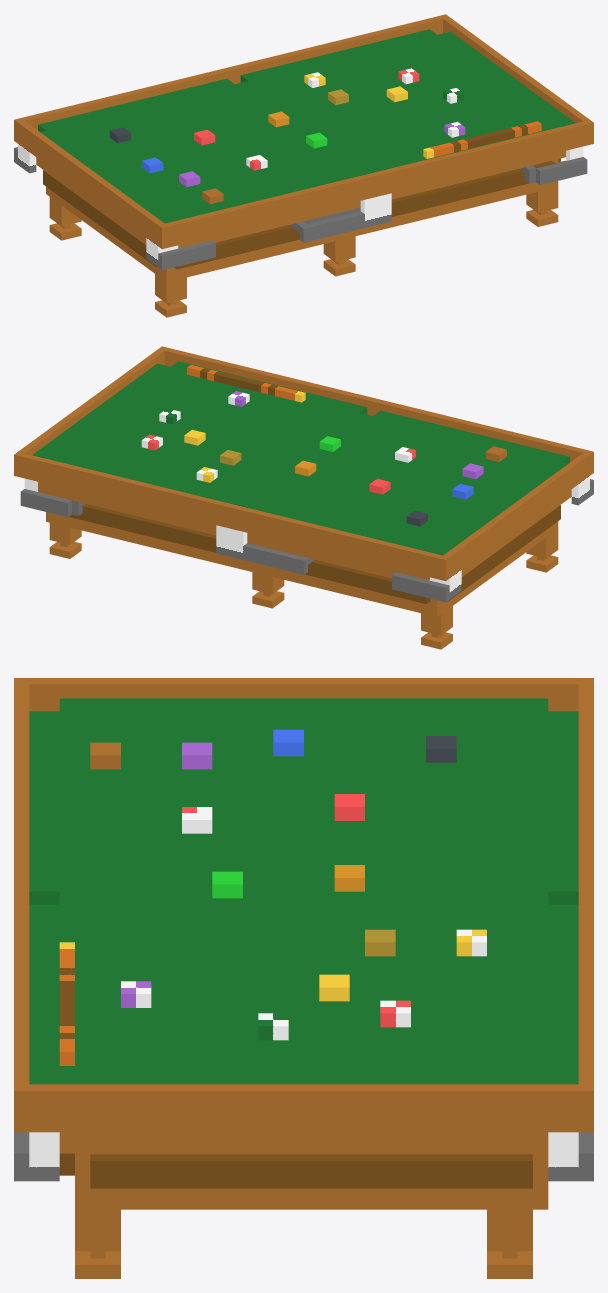
3 renders of one model, top to bottom at view 1: azimuth 30°, elevation 25°; view 2: azimuth 150°, elevation 25°; view 3: azimuth 270°, elevation 25°, orthographic. The views are drawn at different scales.
Visible parts, largest first — view 1: Object; view 2: Object; view 3: Object.
Part boxes in pixels (bbox=[...]): Object: bbox=[14, 14, 593, 317]; Object: bbox=[14, 346, 593, 649]; Object: bbox=[14, 678, 593, 1278].
Size of the model in its own units: 64 by 15 by 38.
1 material, 1 textured.
